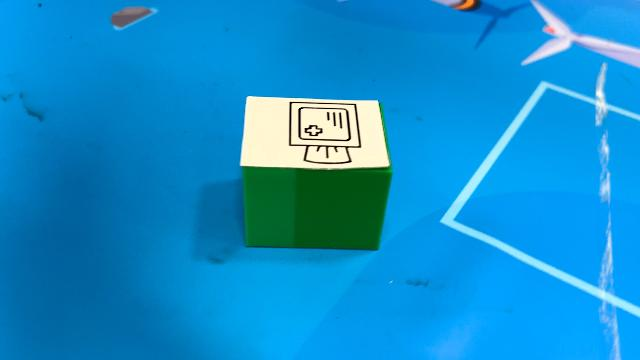napkin: (238, 94, 394, 252)
